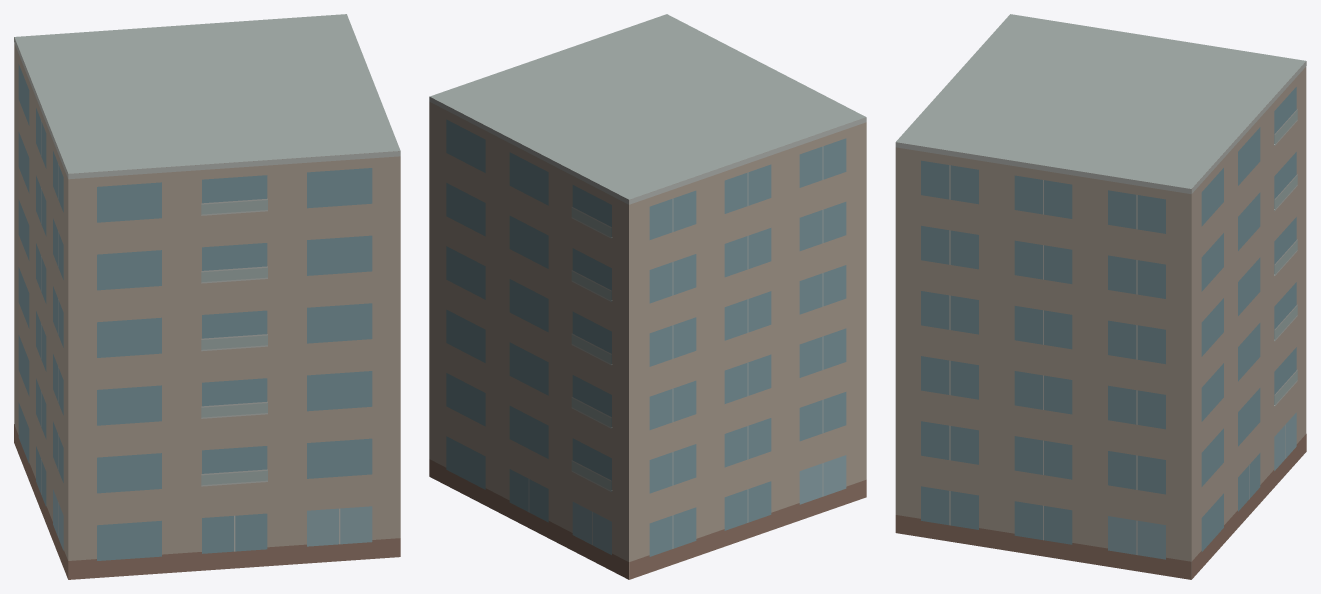
The model's file is survey-upis-32881715.glb.
The picture shows the model from 3 angles, left to right: view 1: azimuth 30°, elevation 25°; view 2: azimuth 150°, elevation 25°; view 3: azimuth 270°, elevation 25°; orthographic projection. The views are drawn at different scales.
Parts seen in each view (by area): view 1: survey-upis-32881715.tmp; view 2: survey-upis-32881715.tmp; view 3: survey-upis-32881715.tmp.
Part boxes in pixels (<box>): survey-upis-32881715.tmp: <box>14,14,400,579</box>; survey-upis-32881715.tmp: <box>429,14,866,579</box>; survey-upis-32881715.tmp: <box>895,14,1306,579</box>.
Size of the model in its own units: 17.59 by 18.3 by 17.45.
